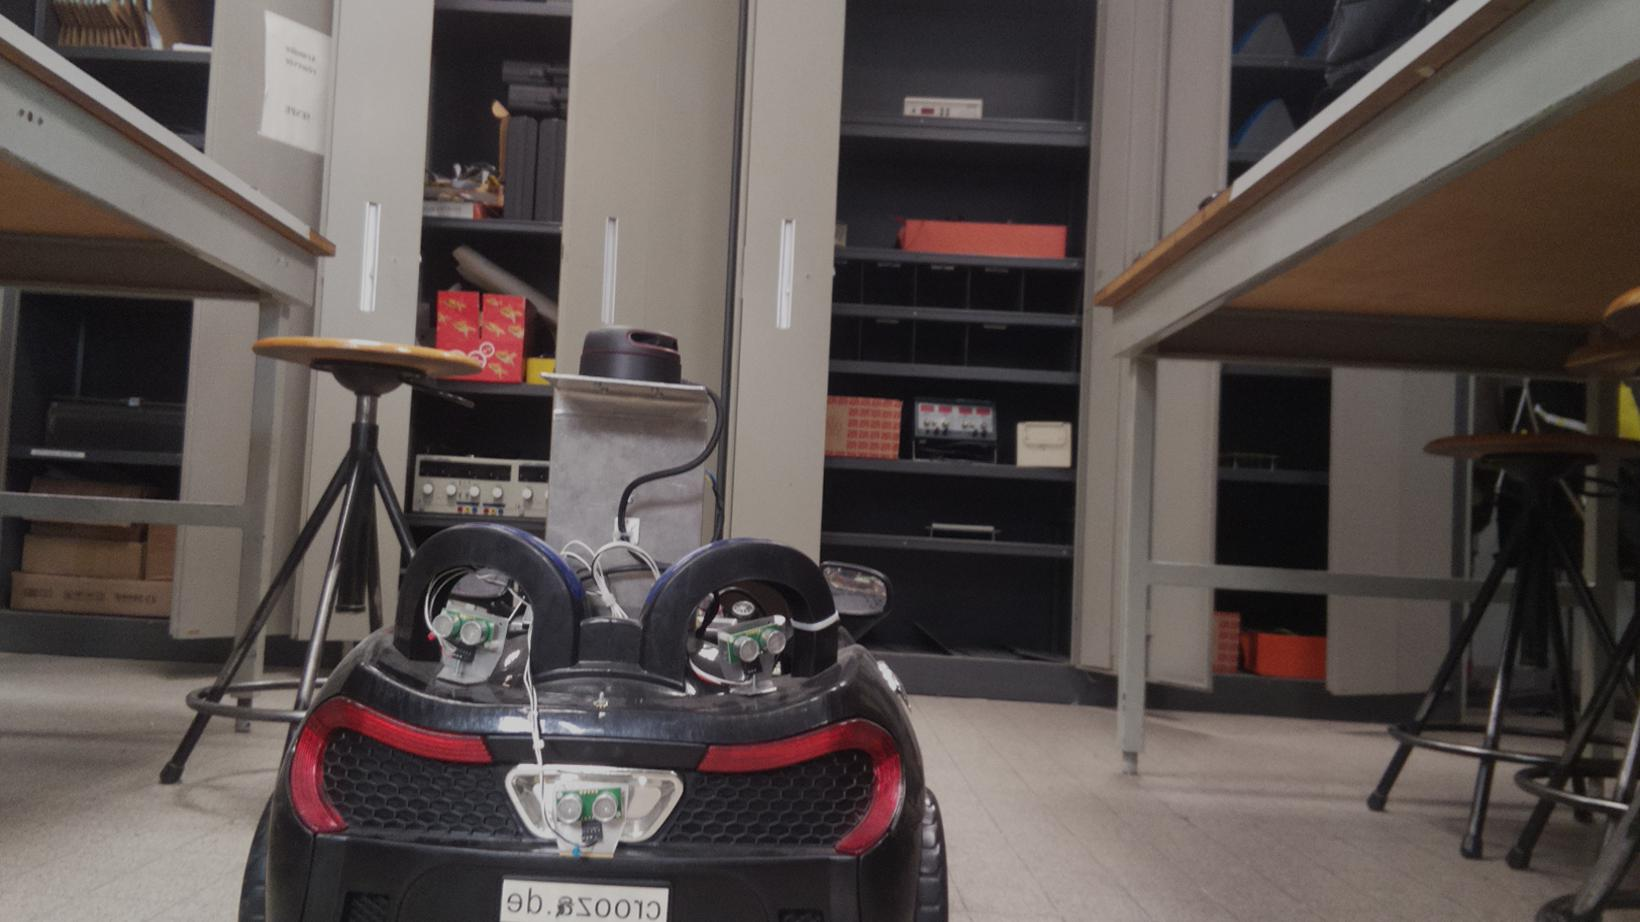big: (241, 317, 962, 922)
